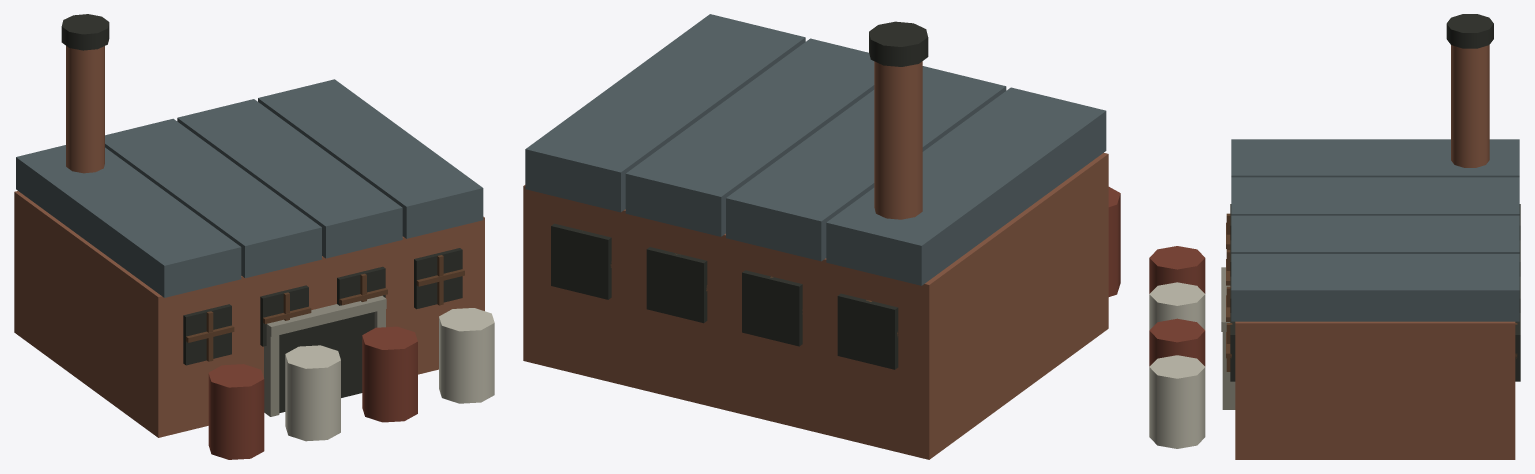
The model's file is custom-imp-textile.glb.
3 renders of one model, left to right at view 1: azimuth 30°, elevation 25°; view 2: azimuth 150°, elevation 25°; view 3: azimuth 270°, elevation 25°, orthographic. The views are drawn at different scales.
Visible parts, largest first — view 1: custom-imp-textile; view 2: custom-imp-textile; view 3: custom-imp-textile.
Boxes of the visible parts, <box> form: custom-imp-textile: <box>14,14,494,459</box>; custom-imp-textile: <box>523,14,1120,459</box>; custom-imp-textile: <box>1149,14,1520,459</box>.
Bounding box in the file's own units: 0.9861 × 0.9049 × 1.
